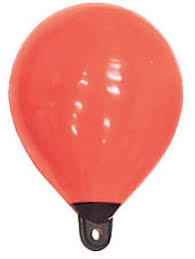buoy: (8, 1, 185, 205)
